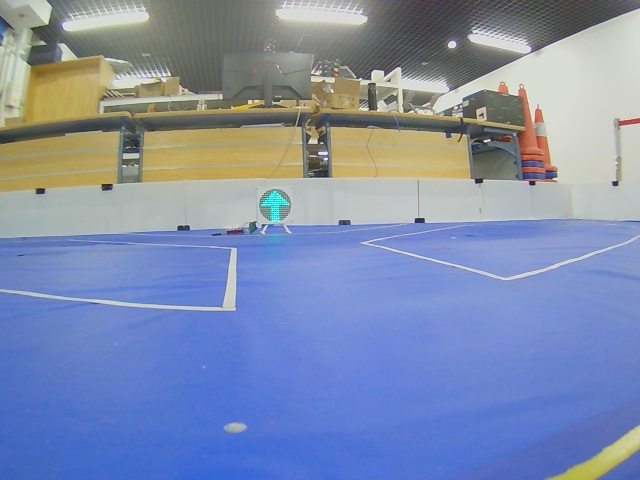straight_green: (258, 189, 291, 223)
